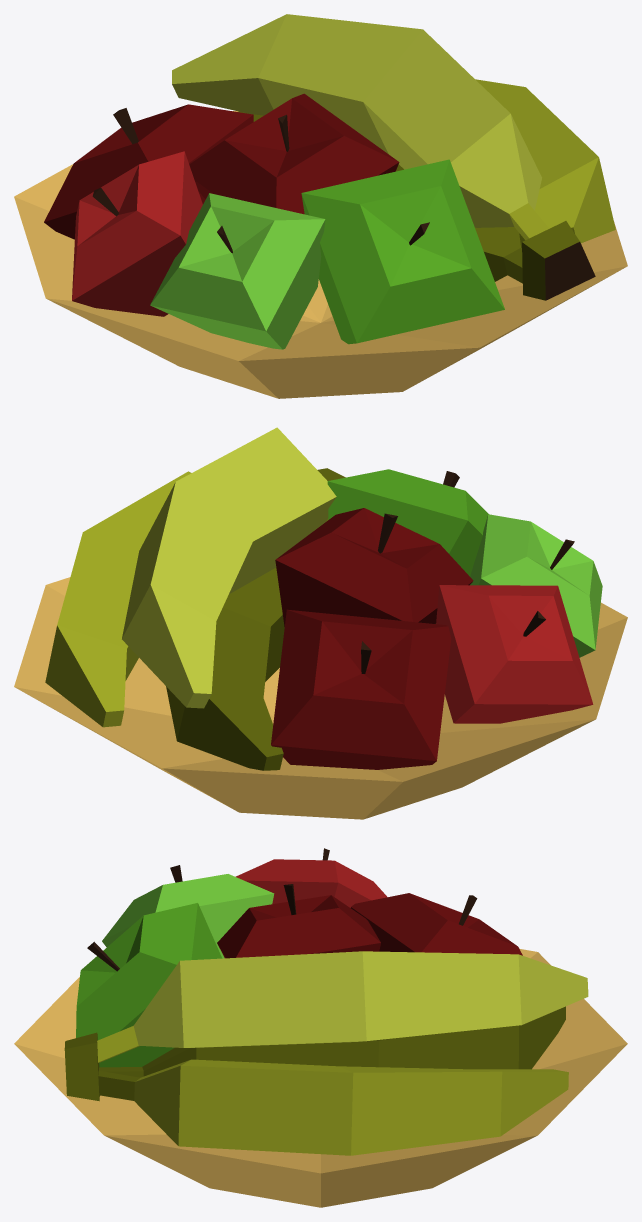
Rendered from Food 01 Fruits.fbx.
The picture shows the model from 3 angles, top to bottom: view 1: azimuth 30°, elevation 25°; view 2: azimuth 150°, elevation 25°; view 3: azimuth 270°, elevation 25°; orthographic projection. The views are drawn at different scales.
Visible parts, largest first — view 1: Food_01_Fruits; view 2: Food_01_Fruits; view 3: Food_01_Fruits.
Part boxes in pixels (x1,y1,x2,y2): Food_01_Fruits: [14, 14, 627, 398]; Food_01_Fruits: [14, 427, 627, 819]; Food_01_Fruits: [14, 848, 627, 1207].
Bounding box in the file's own units: 49.04 × 21.87 × 49.04.
